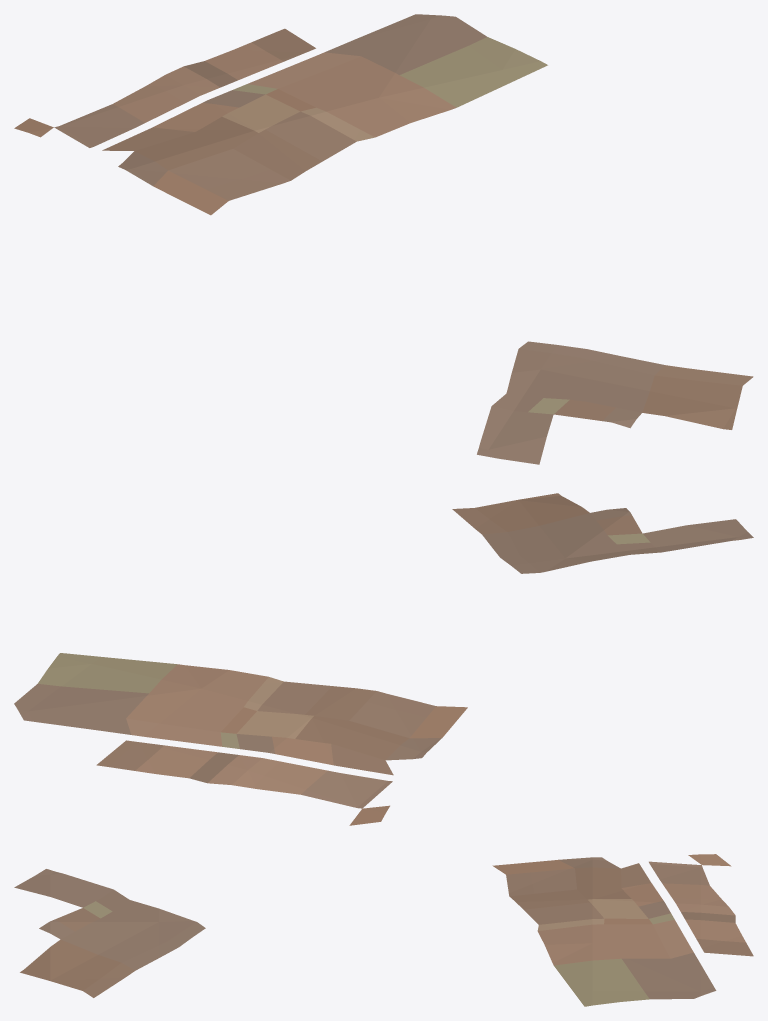
Rendered from farm_-4_-1_soil.glb.
3 views of the same model, one above another, from view 1: azimuth 30°, elevation 25°; view 2: azimuth 150°, elevation 25°; view 3: azimuth 270°, elevation 25° (orthographic). The views are drawn at different scales.
Visible parts, largest first — view 1: geometry_0; view 2: geometry_0; view 3: geometry_0.
Part boxes in pixels (x1,y1,x2,y2): geometry_0: (14,14,753,464); geometry_0: (14,493,753,825); geometry_0: (14,854,753,1006).
Bounding box in the file's own units: 290 × 31.1 × 546.
